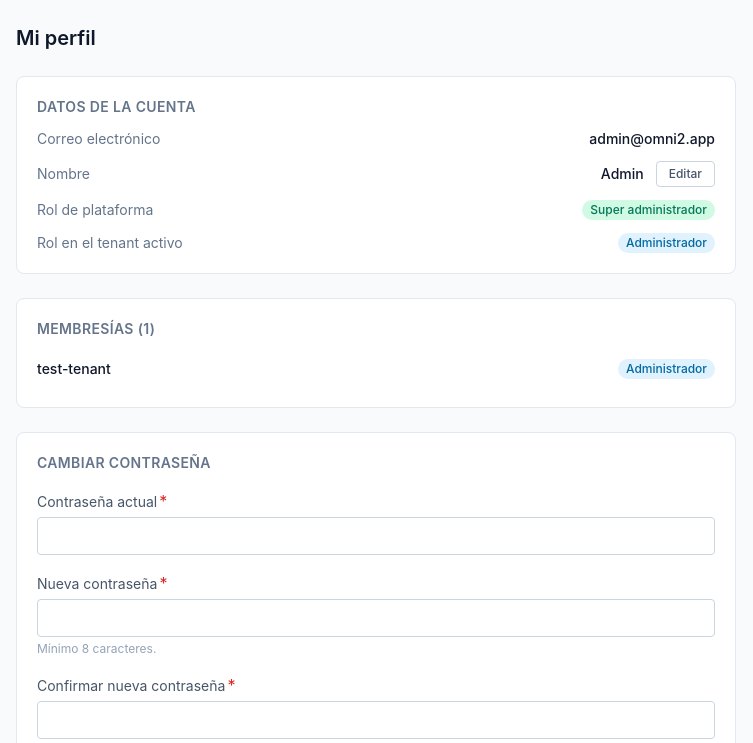
ProfileSection › valida la longitud mínima de la nueva contraseña
Type "actual123" into the password field labelled "Contraseña actual" at {"x": 376, "y": 536}, box top-left (37, 517), bottom-right (715, 555)
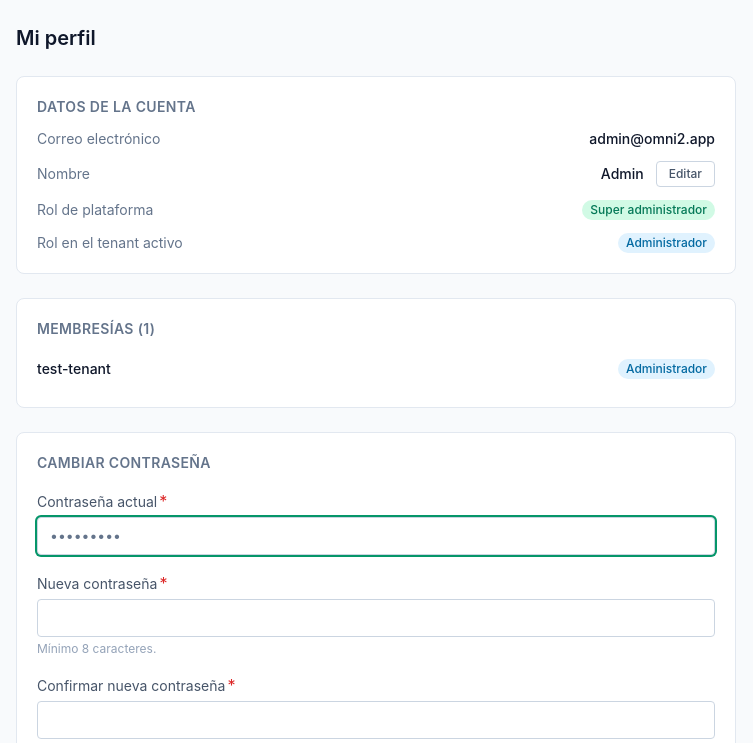
Type "corta" into the password field labelled "Nueva contraseña" at {"x": 376, "y": 618}, box top-left (37, 599), bottom-right (715, 637)
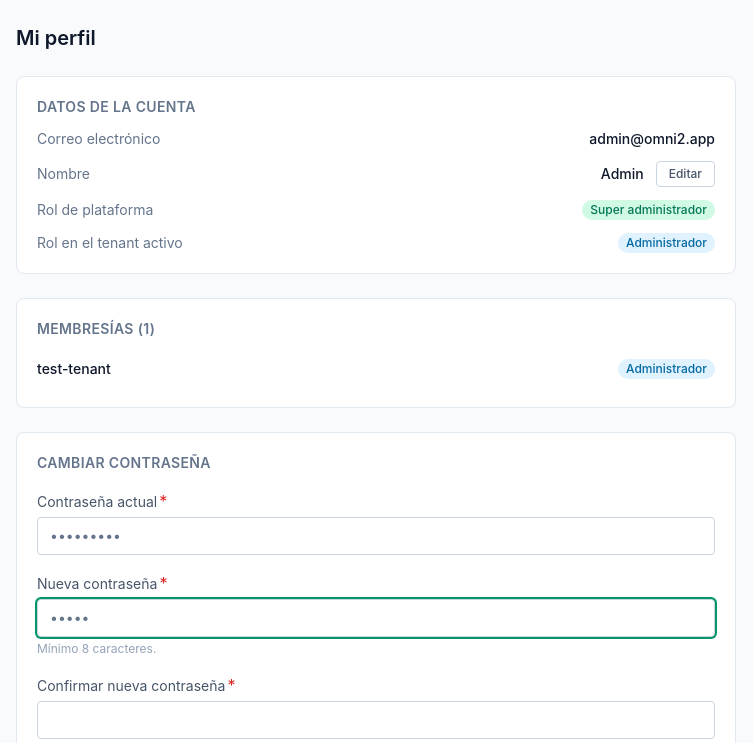
Type "corta" into the password field labelled "Confirmar nueva contraseña" at {"x": 376, "y": 720}, box top-left (37, 701), bottom-right (715, 739)
(page scrolled)
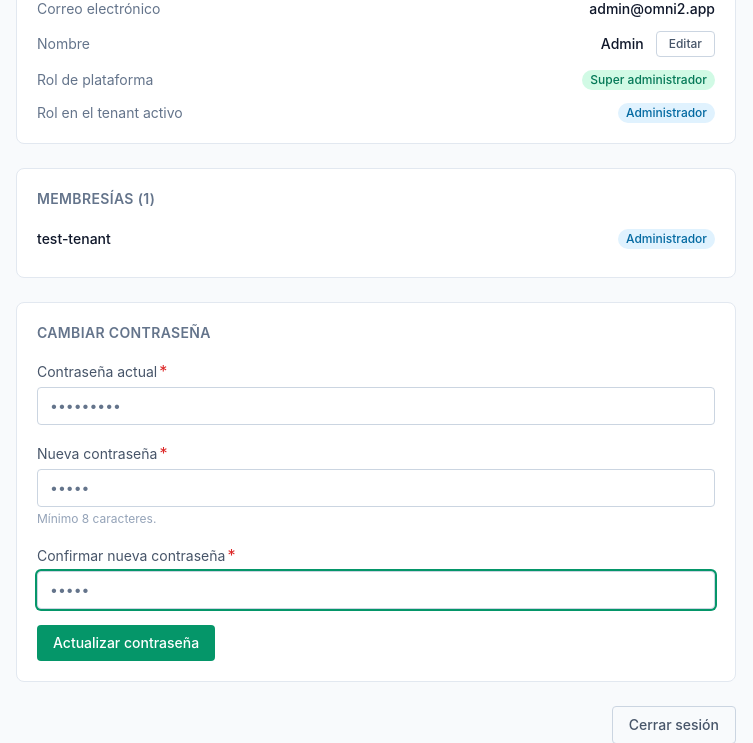
Click the button "Actualizar contraseña" at {"x": 126, "y": 643}, box top-left (37, 625), bottom-right (215, 661)
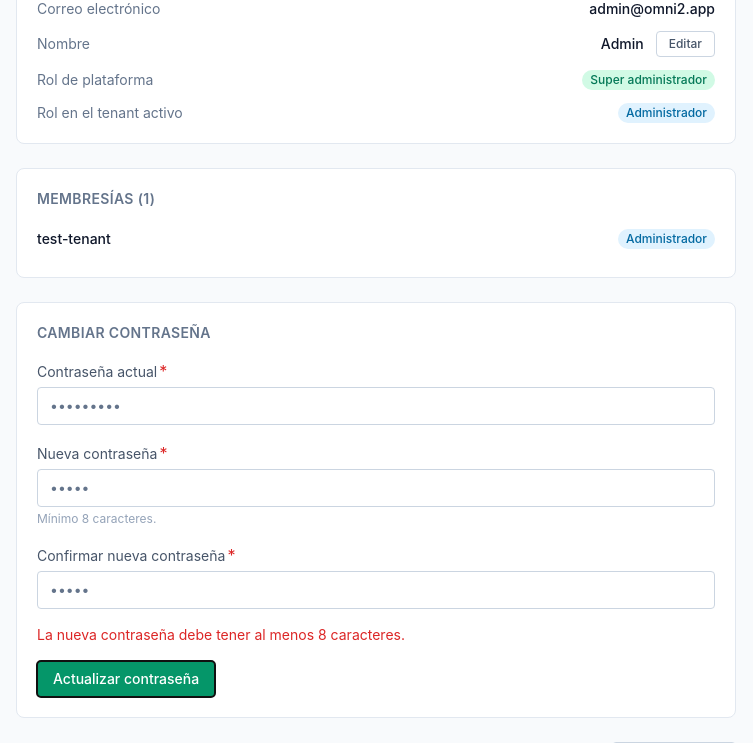
Result: the message reads "La nueva contraseña debe tener al menos 8 caracteres." at top-left (37, 626), bottom-right (405, 643)
